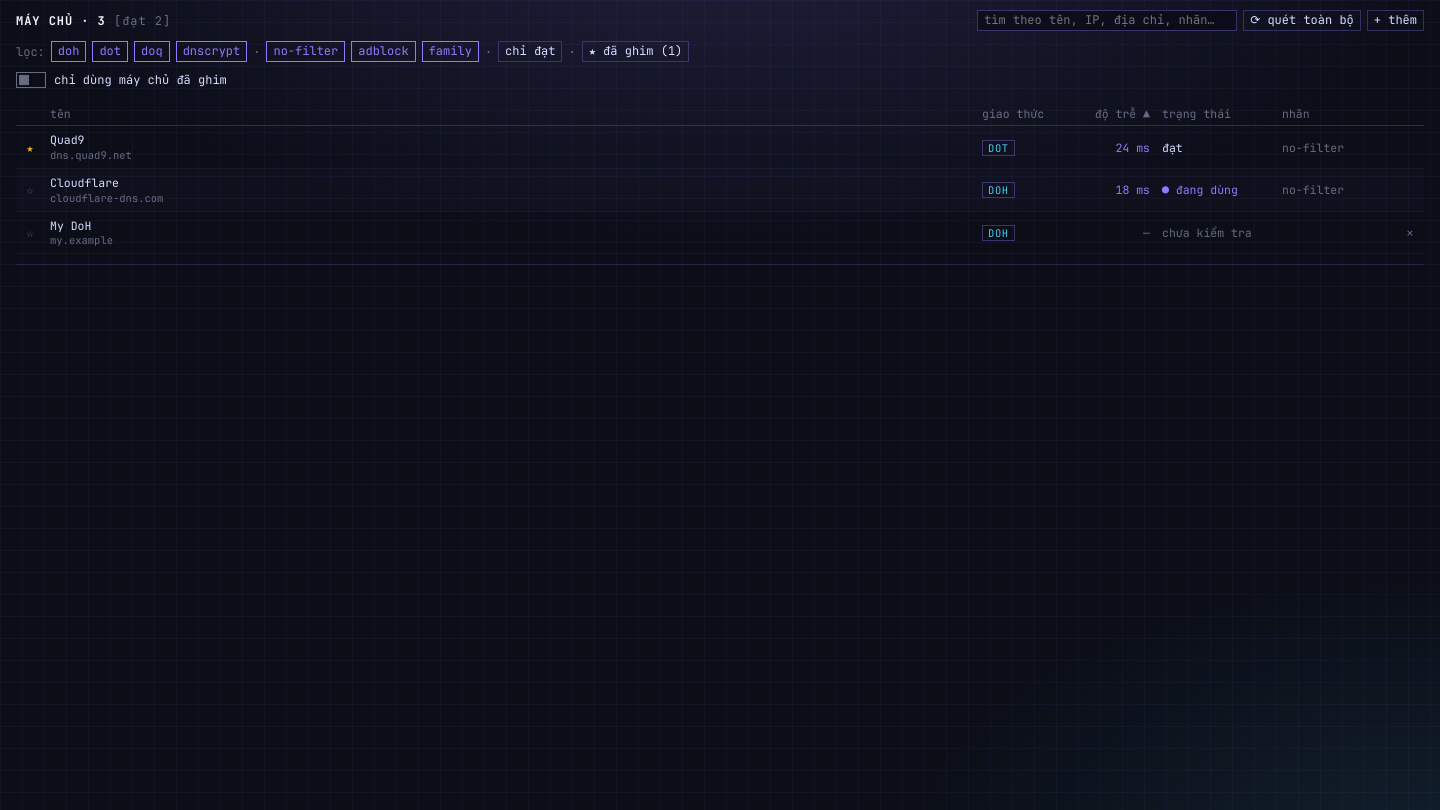
it: menu pin and re-check update the row
Right-click the text "Cloudflare" at (720, 190), box [16, 169, 1424, 211]
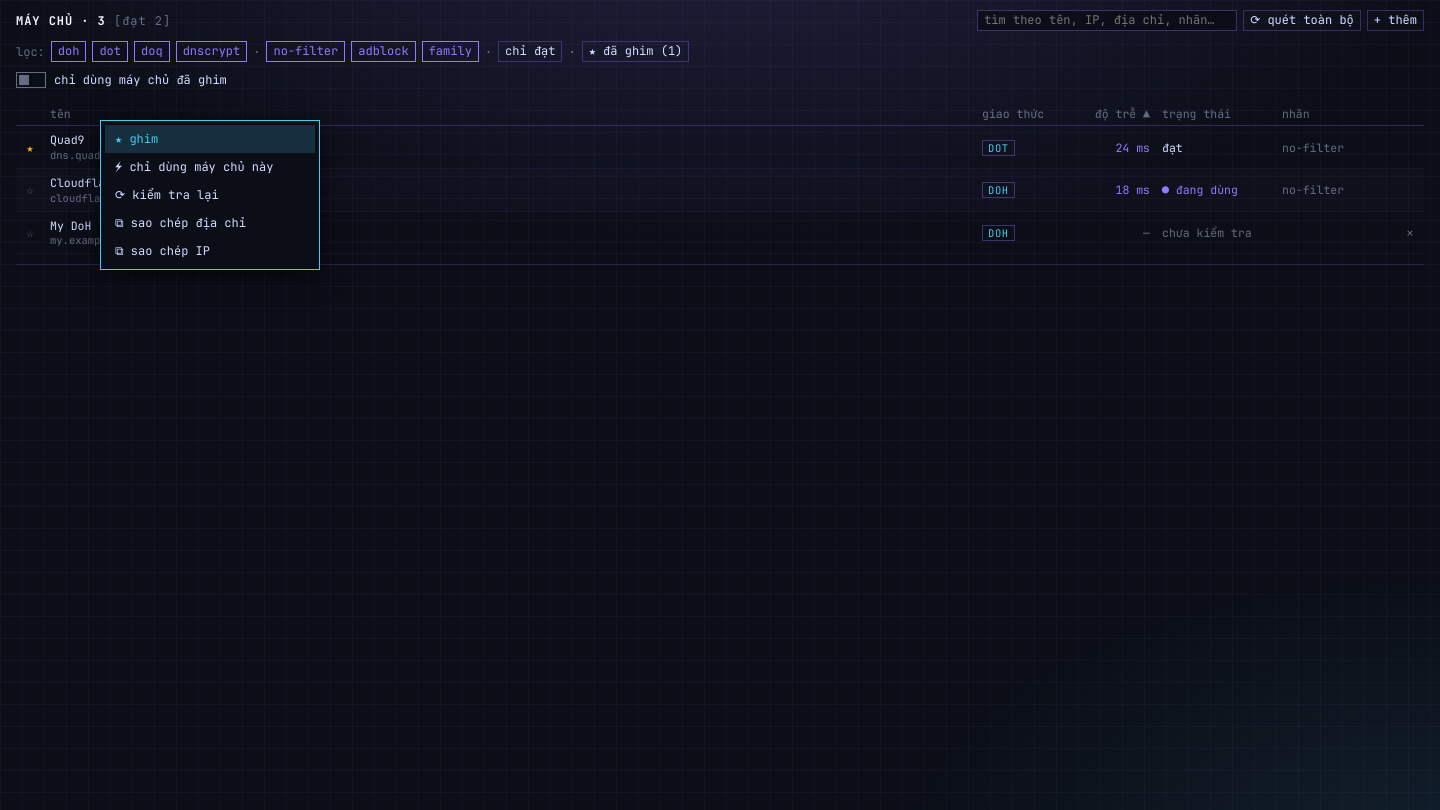
Click the menu item "★ ghim" at (210, 139), box [105, 125, 315, 153]
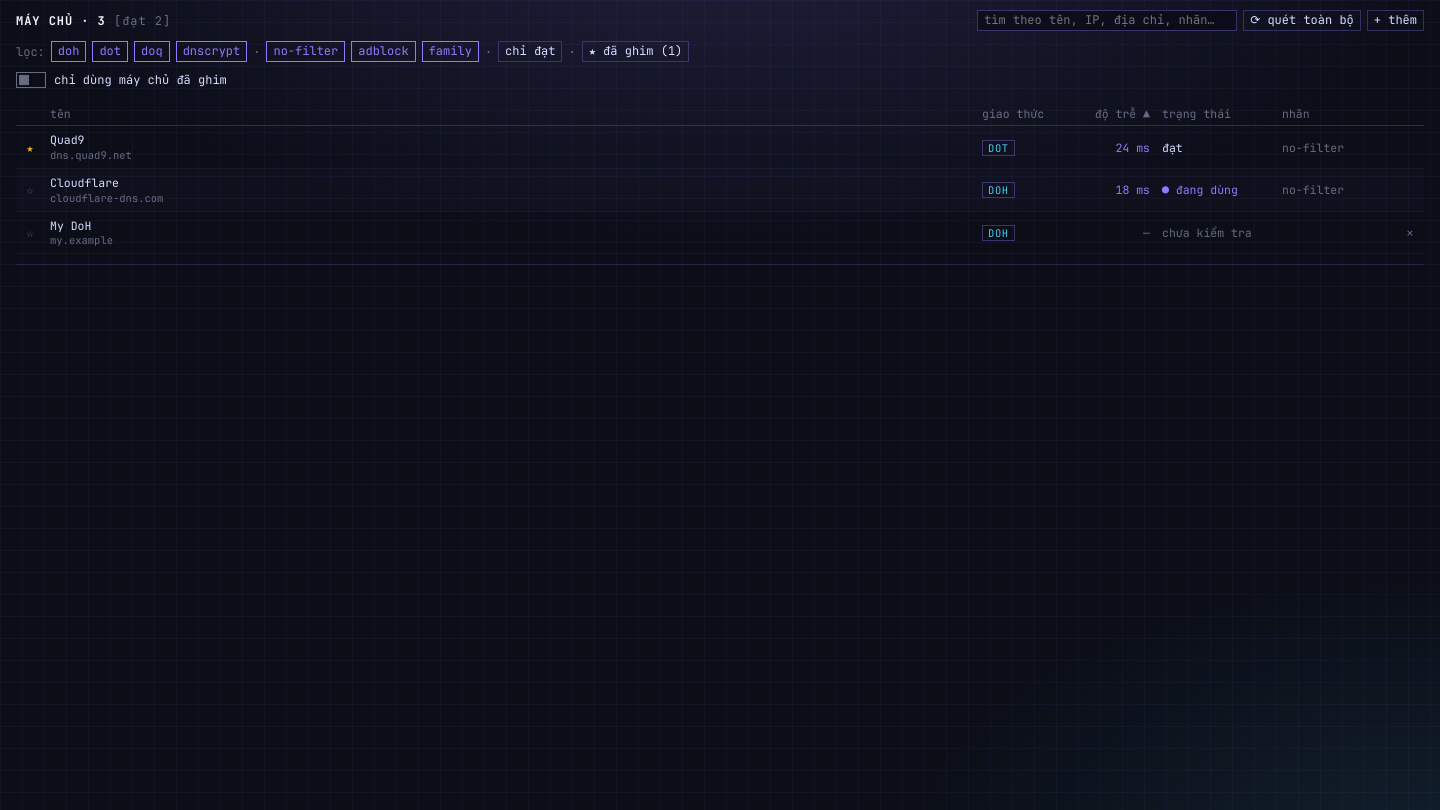
Right-click the text "My DoH" at (720, 233), box [16, 211, 1424, 254]
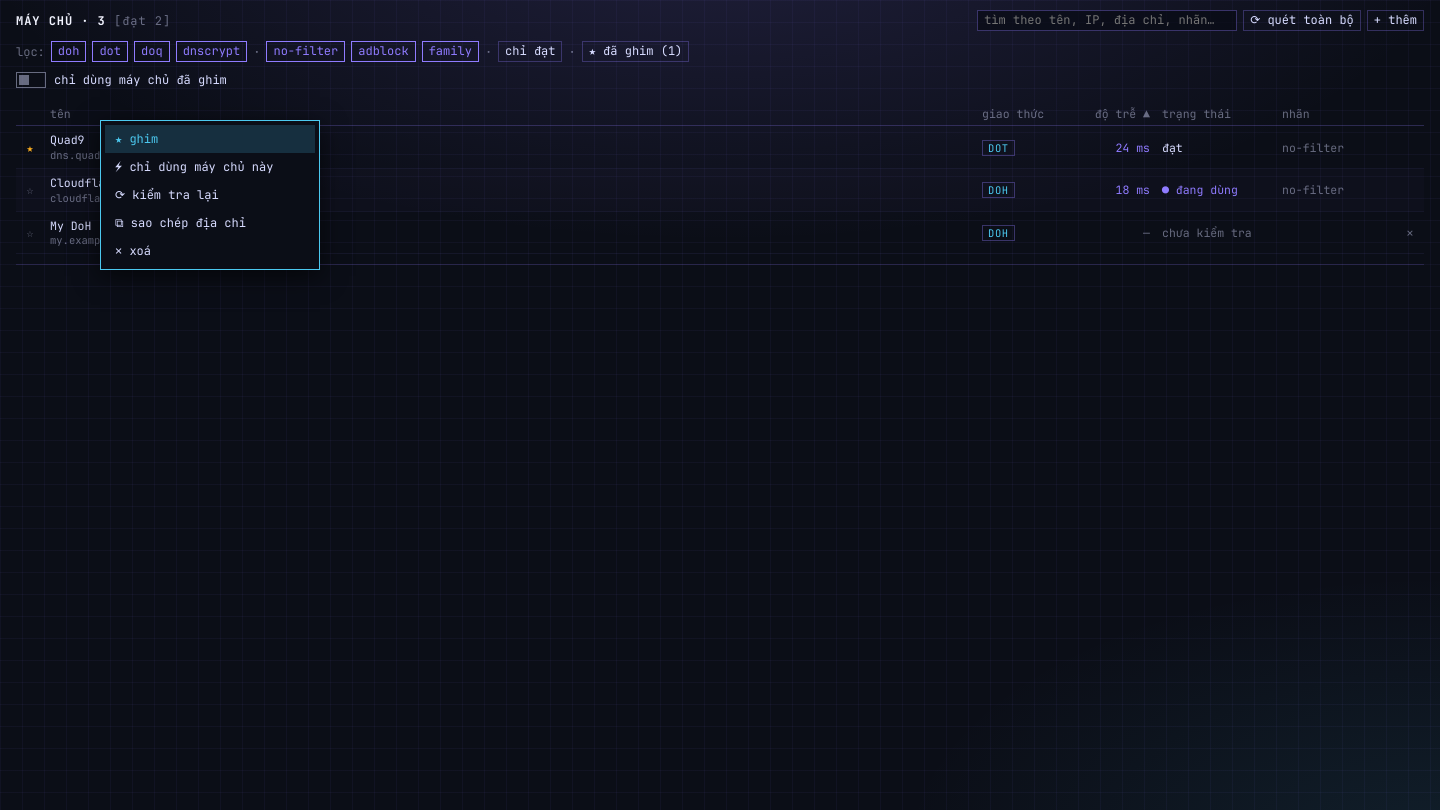
Click the menu item "⟳ kiểm tra lại" at (210, 195), box [105, 181, 315, 209]
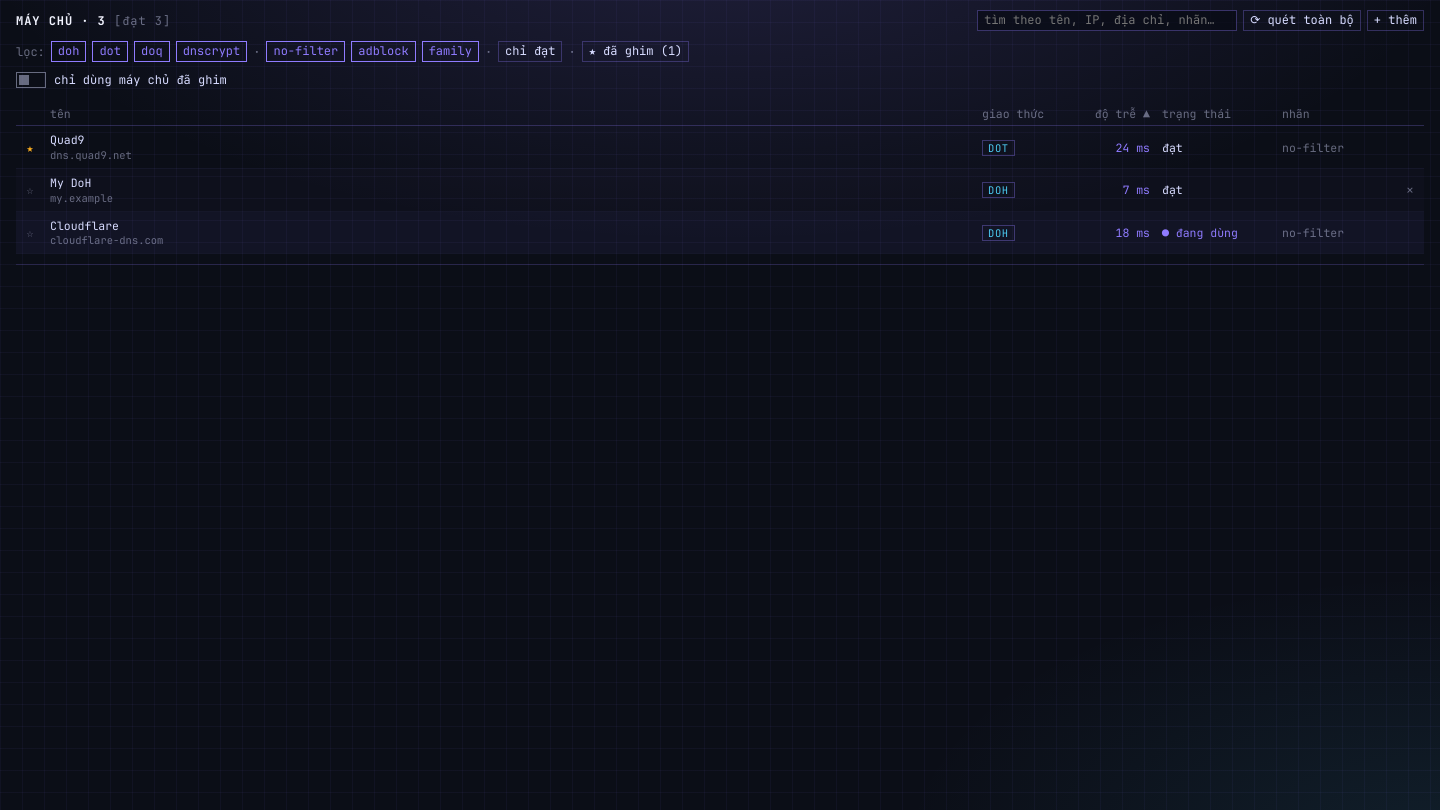
Result: the text "7 ms" is shown at [1122, 182, 1150, 197]
